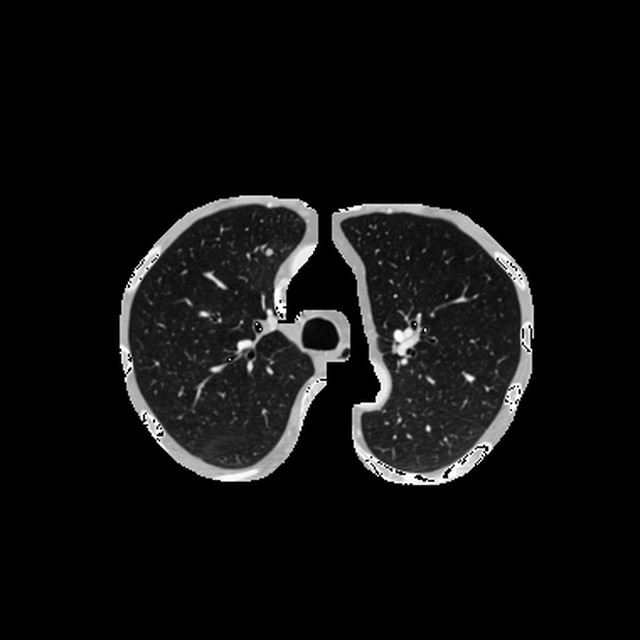PN: (264, 248, 271, 254)
